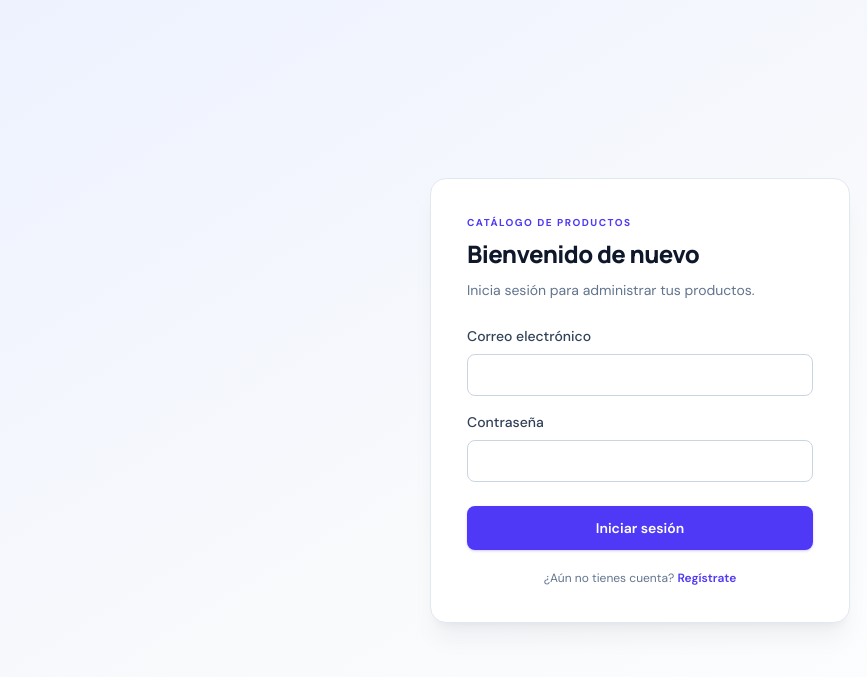
Test: AuthPage › shows an error when the password has fewer than eight characters
Type "short" into the password field labelled "Contraseña" at (640, 460), box [467, 440, 813, 482]
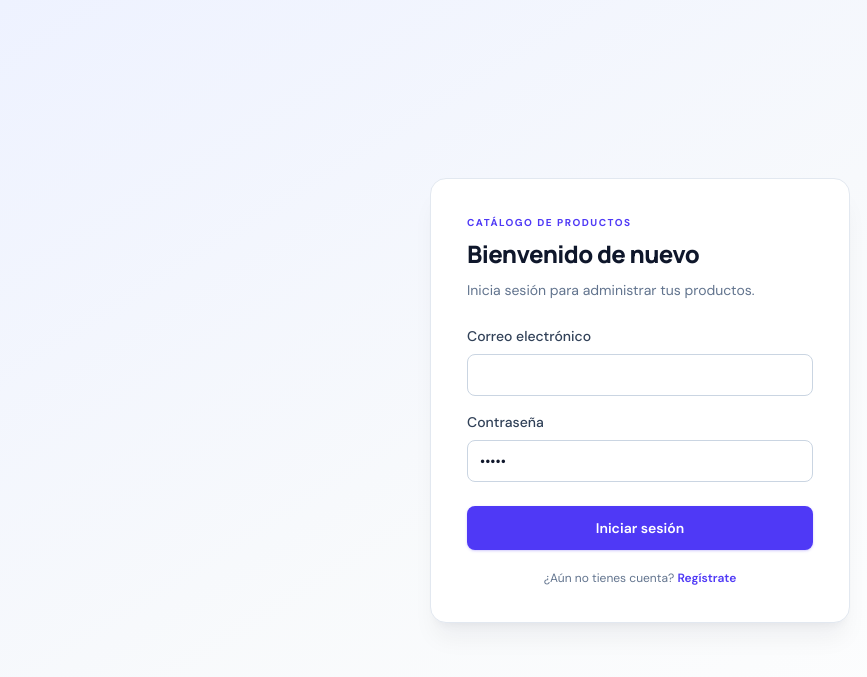
Submit the form named "Iniciar sesión", box [430, 178, 850, 622]
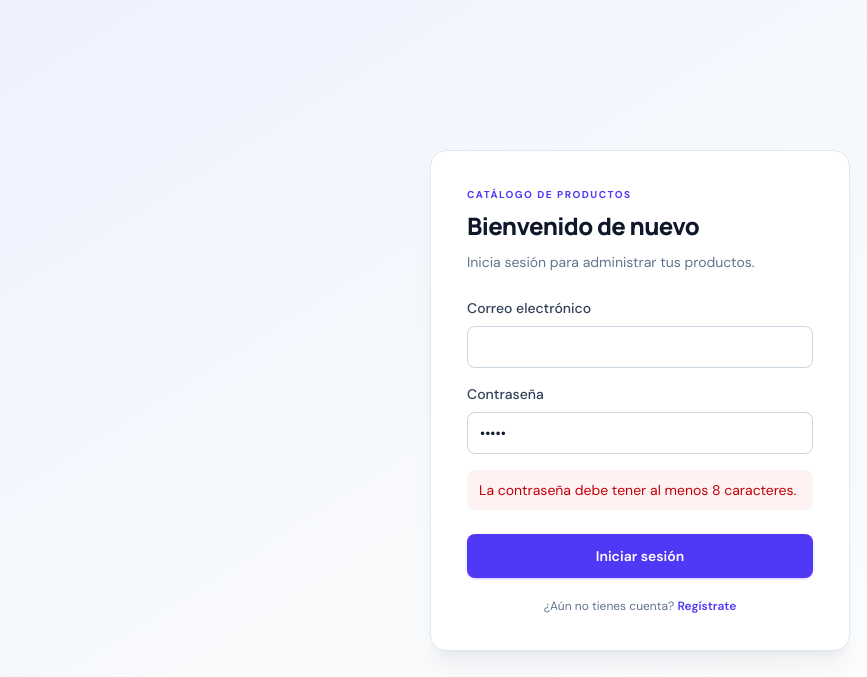
Expected: the message reads "La contraseña debe tener al menos 8 caracteres.", [479, 480, 796, 498]
